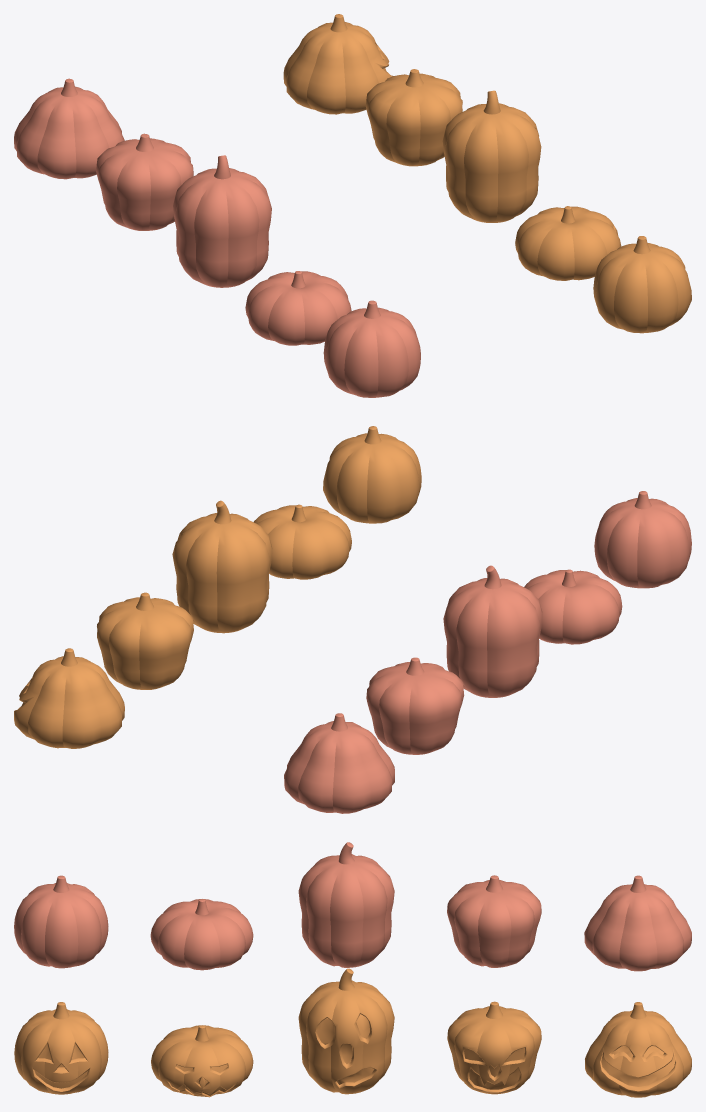
Rendered from Pumpkins.fbx.
3 views of the same model, one above another, from view 1: azimuth 30°, elevation 25°; view 2: azimuth 150°, elevation 25°; view 3: azimuth 270°, elevation 25° (orthographic). The views are drawn at different scales.
Visible parts, largest first — view 1: Pumpkin03, Pumpkin03_Carved, Pumpkin05, Pumpkin05_Carved, Pumpkin01_Carved, Pumpkin01, Pumpkin04, Pumpkin04_Carved, Pumpkin02, Pumpkin02_Carved; view 2: Pumpkin03_Carved, Pumpkin03, Pumpkin05, Pumpkin05_Carved, Pumpkin04, Pumpkin04_Carved, Pumpkin01_Carved, Pumpkin01, Pumpkin02, Pumpkin02_Carved; view 3: Pumpkin03_Carved, Pumpkin03, Pumpkin05_Carved, Pumpkin05, Pumpkin04_Carved, Pumpkin04, Pumpkin01, Pumpkin01_Carved, Pumpkin02_Carved, Pumpkin02.
Part boxes in pixels (x1=…): Pumpkin03: x1=173, y1=155, x2=271, y2=287; Pumpkin03_Carved: x1=442, y1=90, x2=541, y2=222; Pumpkin05: x1=14, y1=78, x2=124, y2=179; Pumpkin05_Carved: x1=283, y1=14, x2=393, y2=114; Pumpkin01_Carved: x1=593, y1=236, x2=691, y2=333; Pumpkin01: x1=323, y1=300, x2=420, y2=397; Pumpkin04: x1=96, y1=133, x2=193, y2=230; Pumpkin04_Carved: x1=365, y1=69, x2=462, y2=166; Pumpkin02: x1=245, y1=271, x2=351, y2=345; Pumpkin02_Carved: x1=515, y1=206, x2=621, y2=280; Pumpkin03_Carved: x1=172, y1=500, x2=272, y2=633; Pumpkin03: x1=443, y1=565, x2=542, y2=697; Pumpkin05: x1=284, y1=713, x2=394, y2=813; Pumpkin05_Carved: x1=14, y1=648, x2=124, y2=748; Pumpkin04: x1=366, y1=657, x2=464, y2=754; Pumpkin04_Carved: x1=97, y1=592, x2=193, y2=689; Pumpkin01_Carved: x1=323, y1=426, x2=421, y2=523; Pumpkin01: x1=594, y1=491, x2=691, y2=588; Pumpkin02: x1=524, y1=569, x2=622, y2=644; Pumpkin02_Carved: x1=254, y1=504, x2=351, y2=579; Pumpkin03_Carved: x1=298, y1=968, x2=394, y2=1094; Pumpkin03: x1=298, y1=842, x2=394, y2=967; Pumpkin05_Carved: x1=585, y1=1002, x2=691, y2=1097; Pumpkin05: x1=584, y1=875, x2=691, y2=971; Pumpkin04_Carved: x1=447, y1=1001, x2=541, y2=1094; Pumpkin04: x1=447, y1=875, x2=541, y2=967; Pumpkin01: x1=14, y1=875, x2=108, y2=968; Pumpkin01_Carved: x1=14, y1=1002, x2=108, y2=1094; Pumpkin02_Carved: x1=151, y1=1025, x2=253, y2=1097; Pumpkin02: x1=150, y1=899, x2=253, y2=970.
Bounding box in the file's own units: 1004 × 325 × 1685.
